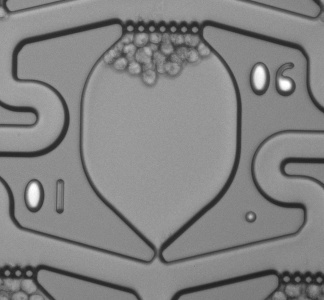AptNum: (246, 54, 302, 100)
Marker: (242, 209, 260, 227)
StNum: (20, 171, 73, 217)
